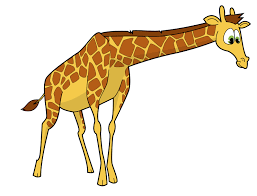Jirafa: (93, 13, 257, 74)
